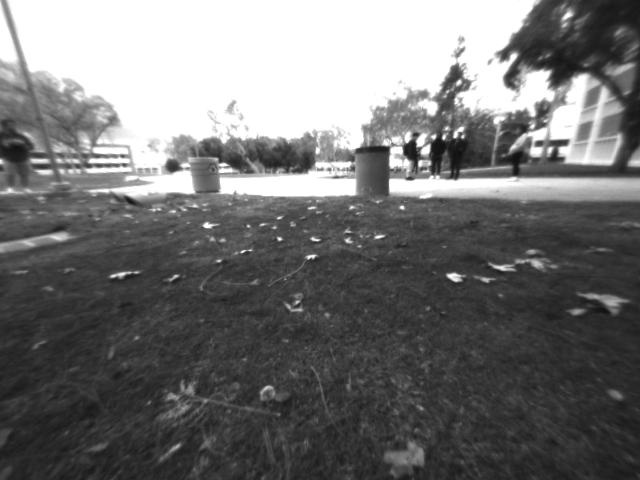trashcan: (352, 147, 391, 201), (189, 155, 226, 196)
